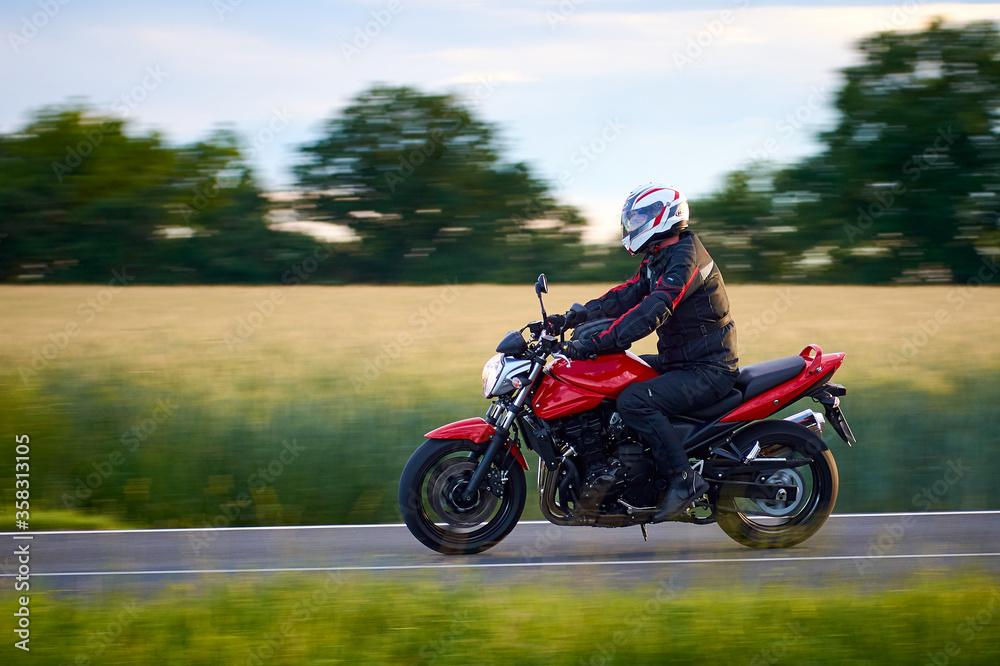helmet: (620, 181, 690, 257)
